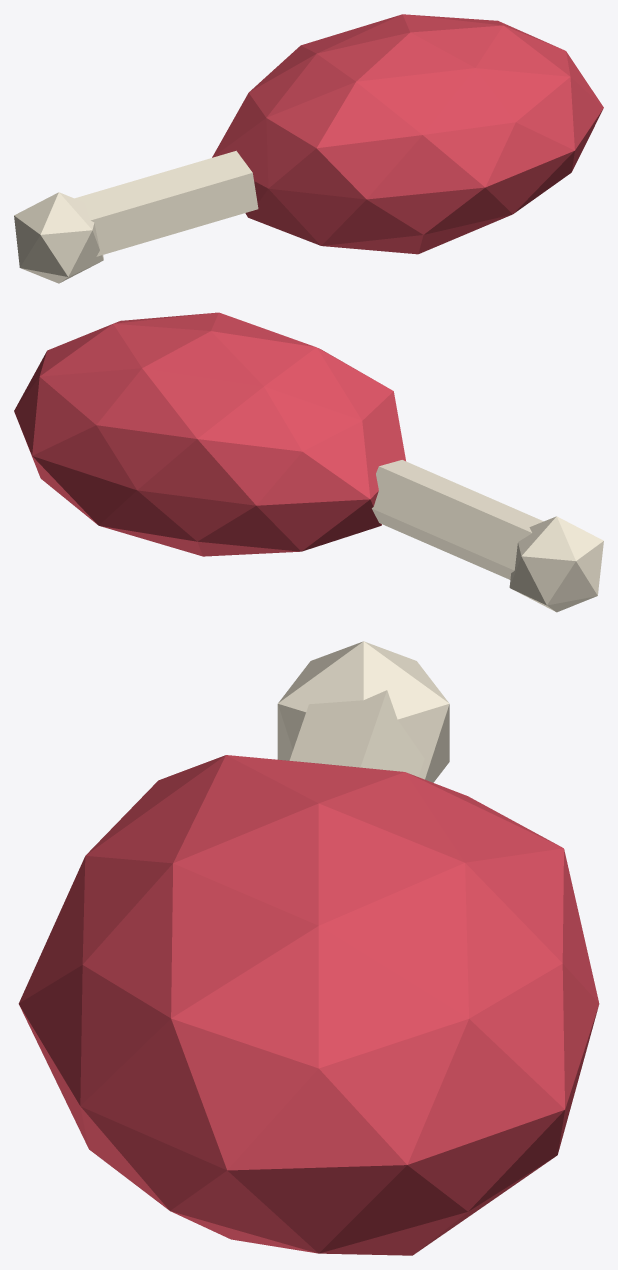
Rendered from item_025_dried_meat_s.glb.
The picture shows the model from 3 angles, top to bottom: view 1: azimuth 30°, elevation 25°; view 2: azimuth 150°, elevation 25°; view 3: azimuth 270°, elevation 25°; orthographic projection. The views are drawn at different scales.
Parts seen in each view (by area): view 1: item_025_dried_meat_s; view 2: item_025_dried_meat_s; view 3: item_025_dried_meat_s.
Part boxes in pixels (x1,y1,x2,y2): item_025_dried_meat_s: [14, 14, 603, 283]; item_025_dried_meat_s: [14, 312, 603, 612]; item_025_dried_meat_s: [18, 641, 599, 1255].
Bounding box in the file's own units: 0.566 × 0.1885 × 0.2587.
